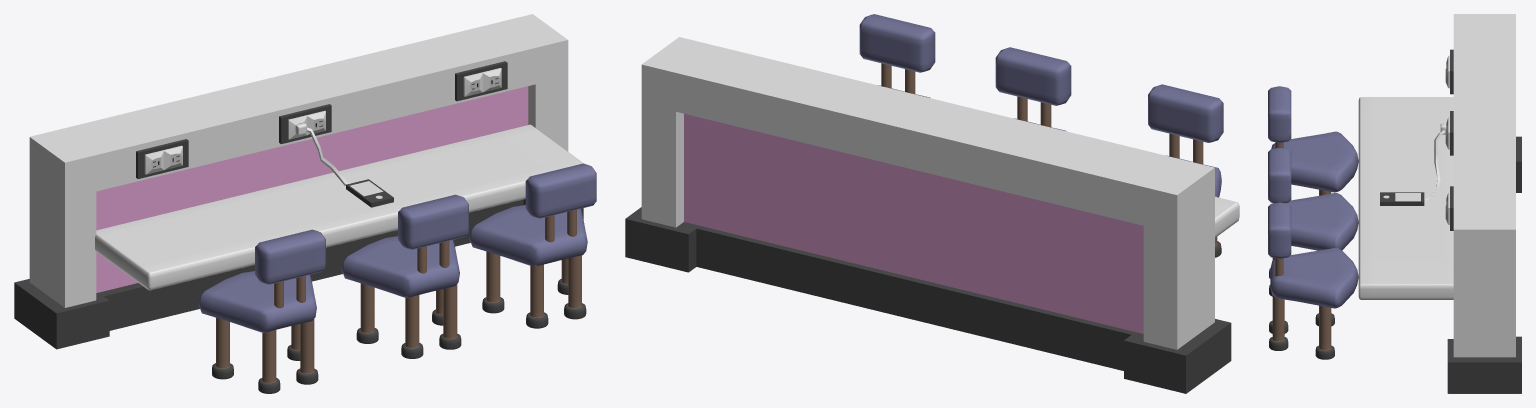
File: charing station.fbx
The picture shows the model from 3 angles, left to right: view 1: azimuth 30°, elevation 25°; view 2: azimuth 150°, elevation 25°; view 3: azimuth 270°, elevation 25°; orthographic projection. The views are drawn at different scales.
Parts seen in each view (by area): view 1: pCube50, group1_pCube5, group2_pCube5, group3_pCube5, pCube51; view 2: pCube50, group1_pCube5, group2_pCube5, group3_pCube5; view 3: pCube50, group3_pCube5, group1_pCube5, group2_pCube5, pCube51.
Boxes of the visible parts, left/top/right/bottom form: pCube50: left=14, top=14, right=583, bottom=349; group1_pCube5: left=198, top=229, right=325, bottom=393; group2_pCube5: left=341, top=194, right=468, bottom=358; group3_pCube5: left=469, top=163, right=596, bottom=328; pCube51: left=295, top=123, right=393, bottom=207; pCube50: left=625, top=37, right=1239, bottom=393; group1_pCube5: left=1148, top=84, right=1223, bottom=257; group2_pCube5: left=995, top=47, right=1071, bottom=131; group3_pCube5: left=859, top=14, right=935, bottom=97; pCube50: left=1358, top=14, right=1521, bottom=393; group3_pCube5: left=1268, top=202, right=1358, bottom=359; group1_pCube5: left=1268, top=86, right=1358, bottom=203; group2_pCube5: left=1268, top=147, right=1358, bottom=296; pCube51: left=1380, top=123, right=1446, bottom=205.
Size of the model in its own units: 17.69 by 5.81 by 8.4.
